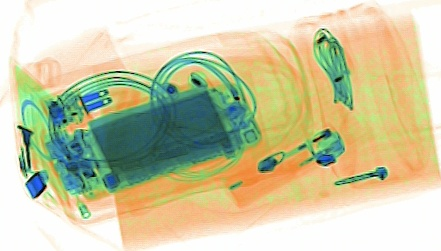lighter: (223, 122, 346, 212)
